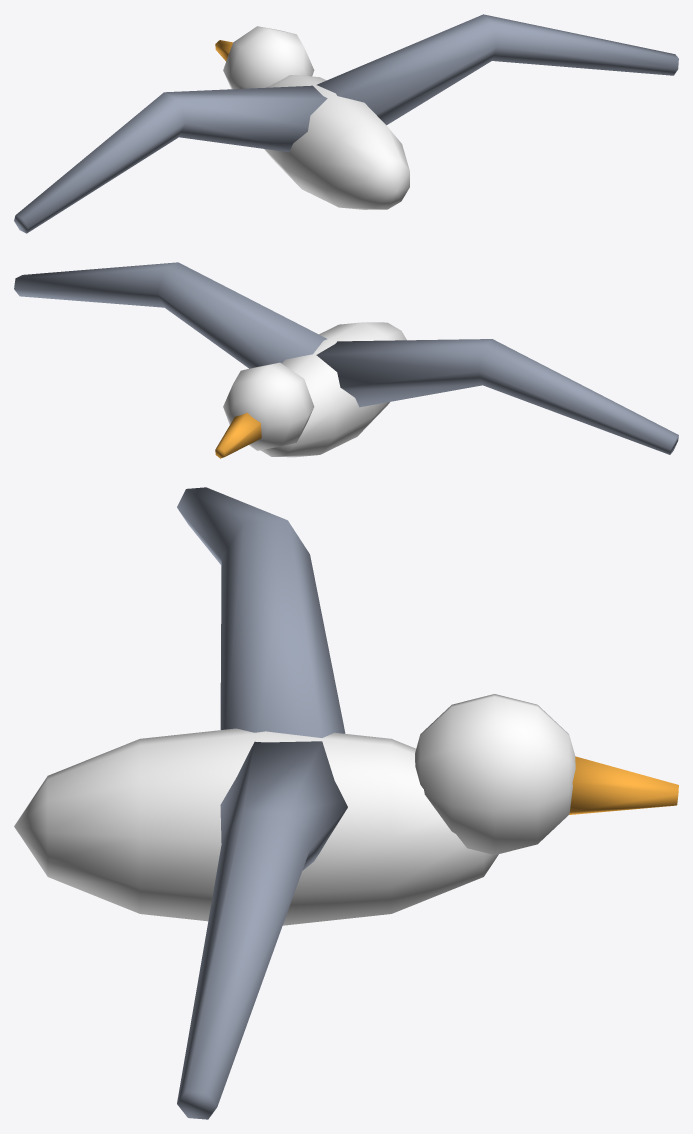
The model's file is seagull.glb.
3 views of the same model, one above another, from view 1: azimuth 30°, elevation 25°; view 2: azimuth 150°, elevation 25°; view 3: azimuth 270°, elevation 25° (orthographic). The views are drawn at different scales.
Visible parts, largest first — view 1: Seagull_Wings, Seagull_Body; view 2: Seagull_Wings, Seagull_Body, Seagull_Beak; view 3: Seagull_Body, Seagull_Wings, Seagull_Beak.
Boxes of the visible parts, x1,y1,x2,y2 form: Seagull_Wings: [14, 14, 678, 233]; Seagull_Body: [223, 26, 409, 209]; Seagull_Wings: [14, 262, 678, 454]; Seagull_Body: [223, 322, 406, 457]; Seagull_Beak: [215, 412, 261, 458]; Seagull_Body: [14, 694, 575, 925]; Seagull_Wings: [177, 487, 347, 1119]; Seagull_Beak: [569, 756, 678, 814].
Bounding box in the file's own units: 1.25 × 0.2438 × 0.581.
